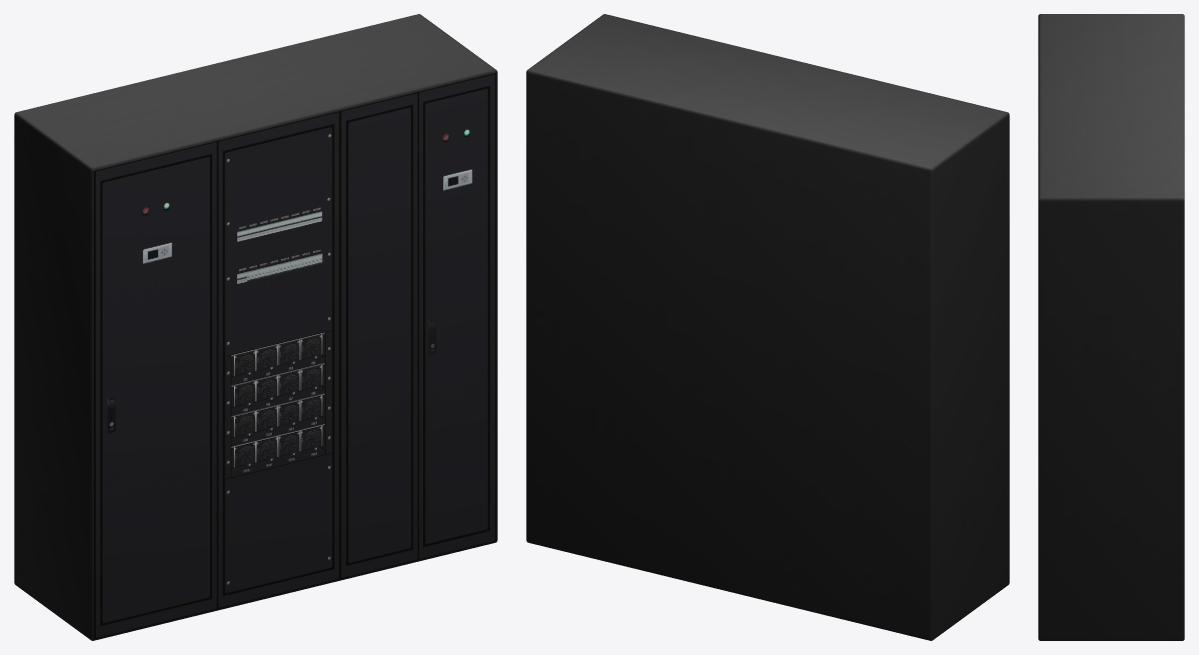
Rendered from zhiliu.obj.
3 views of the same model, side by side, from view 1: azimuth 30°, elevation 25°; view 2: azimuth 150°, elevation 25°; view 3: azimuth 270°, elevation 25° (orthographic). The views are drawn at different scales.
Visible parts, largest first — view 1: 48; view 2: 48; view 3: 48.
Part boxes in pixels (box(x1,y1,x2,y2)): 48: box(14, 14, 497, 640); 48: box(526, 14, 1009, 640); 48: box(1038, 14, 1184, 640).
Size of the model in its own units: 180 by 200 by 60.
